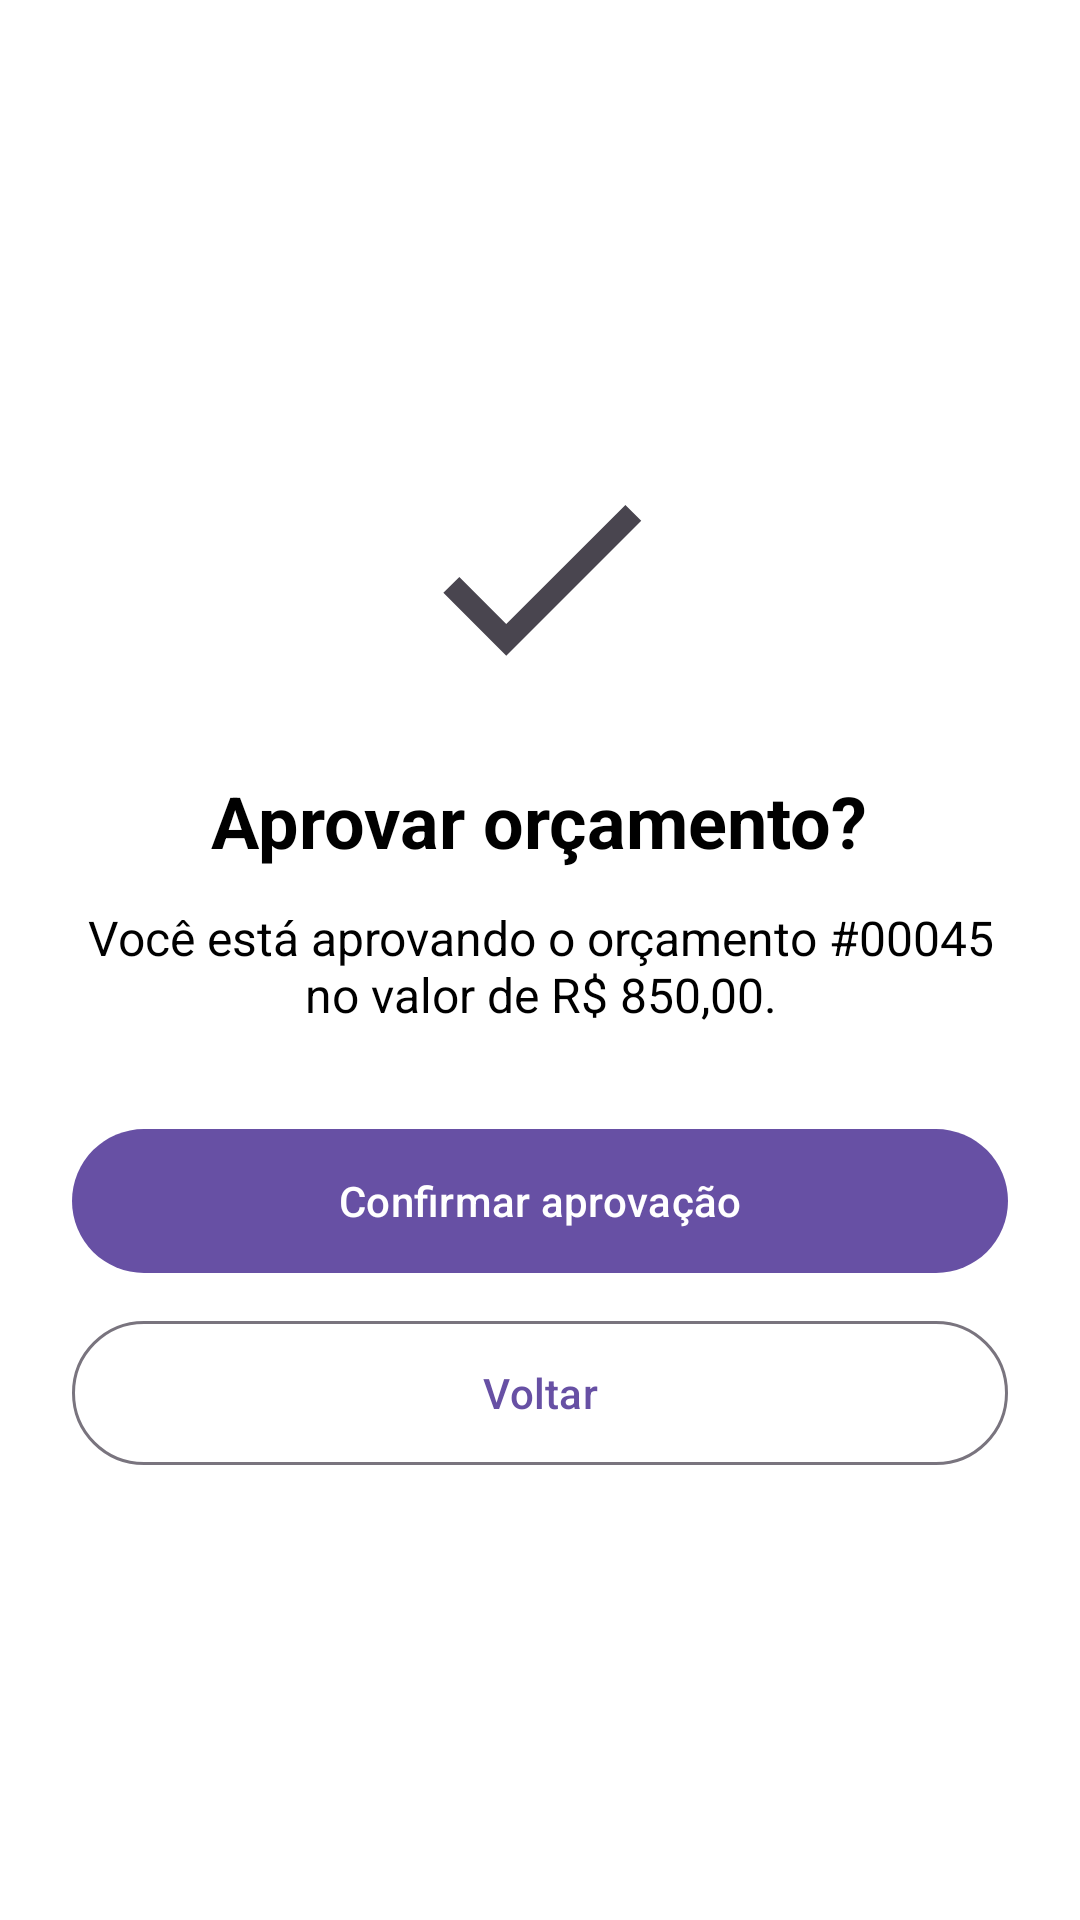

Named icons in this screenshot (1080*1920) and their centers, point (x, y):
Confirmação: point (542, 580)
